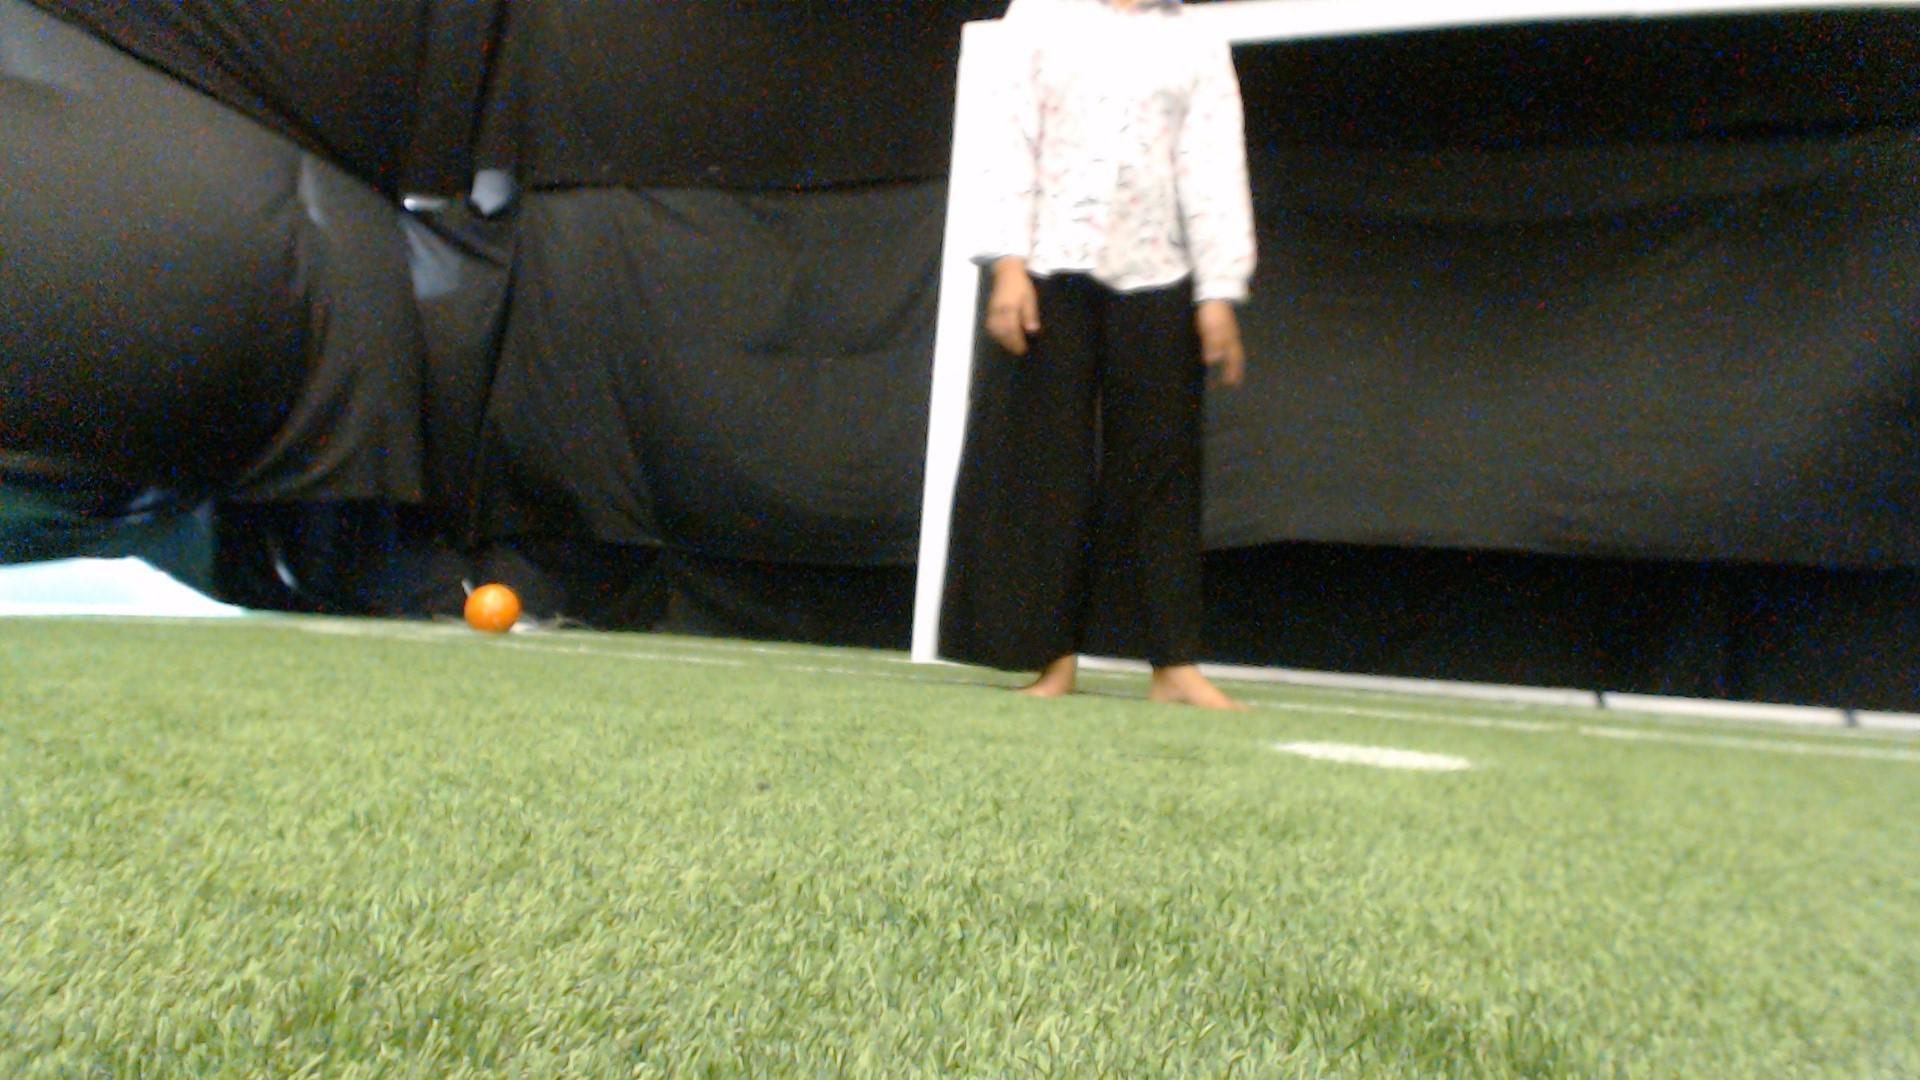bola: (451, 576, 537, 646)
